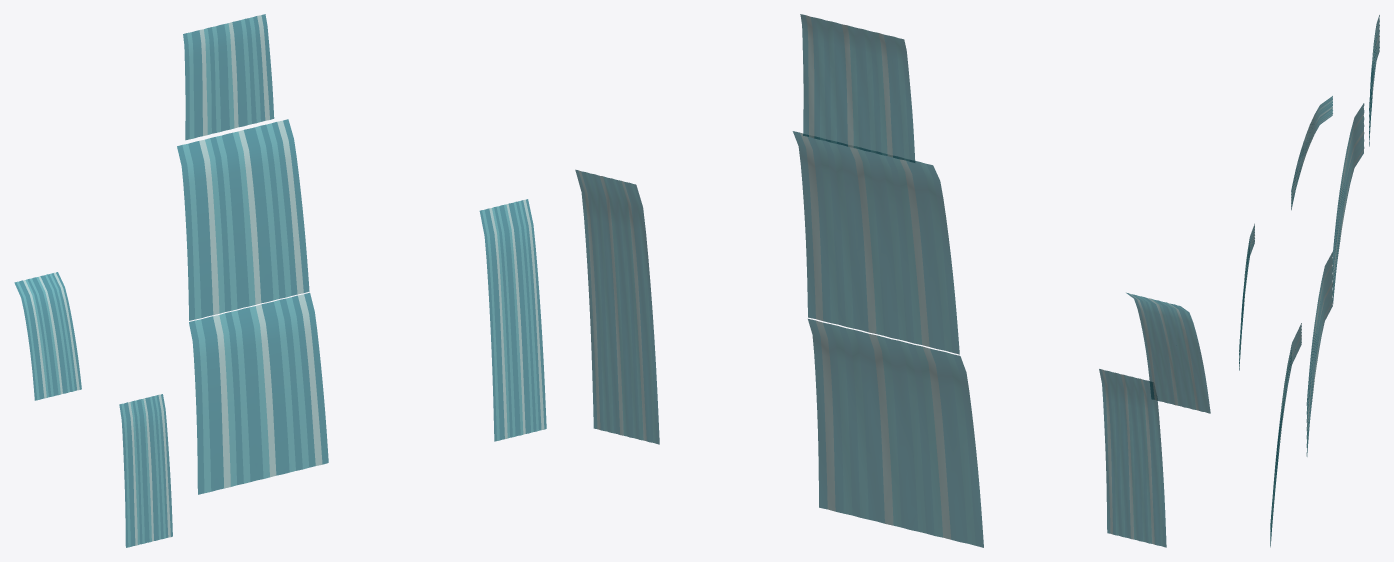
The model's file is WaterfallIsland_Water.obj.
3 views of the same model, side by side, from view 1: azimuth 30°, elevation 25°; view 2: azimuth 150°, elevation 25°; view 3: azimuth 270°, elevation 25° (orthographic). The views are drawn at different scales.
Parts seen in each view (by area): view 1: WaterfallIsland_Water; view 2: WaterfallIsland_Water; view 3: WaterfallIsland_Water.
Part boxes in pixels (left/top/right/bottom): WaterfallIsland_Water: left=14, top=14, right=546, bottom=547; WaterfallIsland_Water: left=575, top=14, right=1210, bottom=547; WaterfallIsland_Water: left=1239, top=15, right=1379, bottom=547.
Size of the model in its own units: 103 by 84 by 27.12.
Materials: 3 (3 with a texture image).
